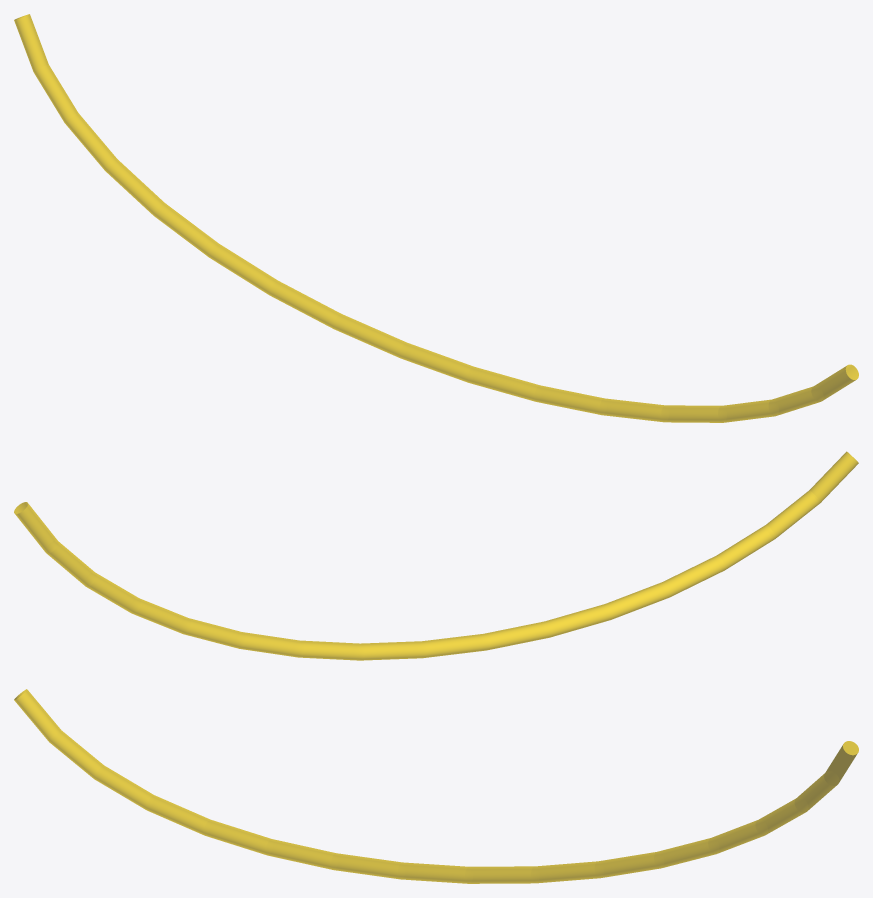
The model's file is Event_84804159_track_43.fbx.
3 views of the same model, one above another, from view 1: azimuth 90°, elevation 25°; view 2: azimuth 150°, elevation 25°; view 3: azimuth 270°, elevation 25° (orthographic).
Visible parts, largest first — view 1: Model; view 2: Model; view 3: Model.
Part boxes in pixels (x1,y1,x2,y2): Model: (14, 14, 858, 422); Model: (14, 451, 858, 660); Model: (14, 689, 858, 883).
Size of the model in its own units: 1.16 by 0.6613 by 1.97.
